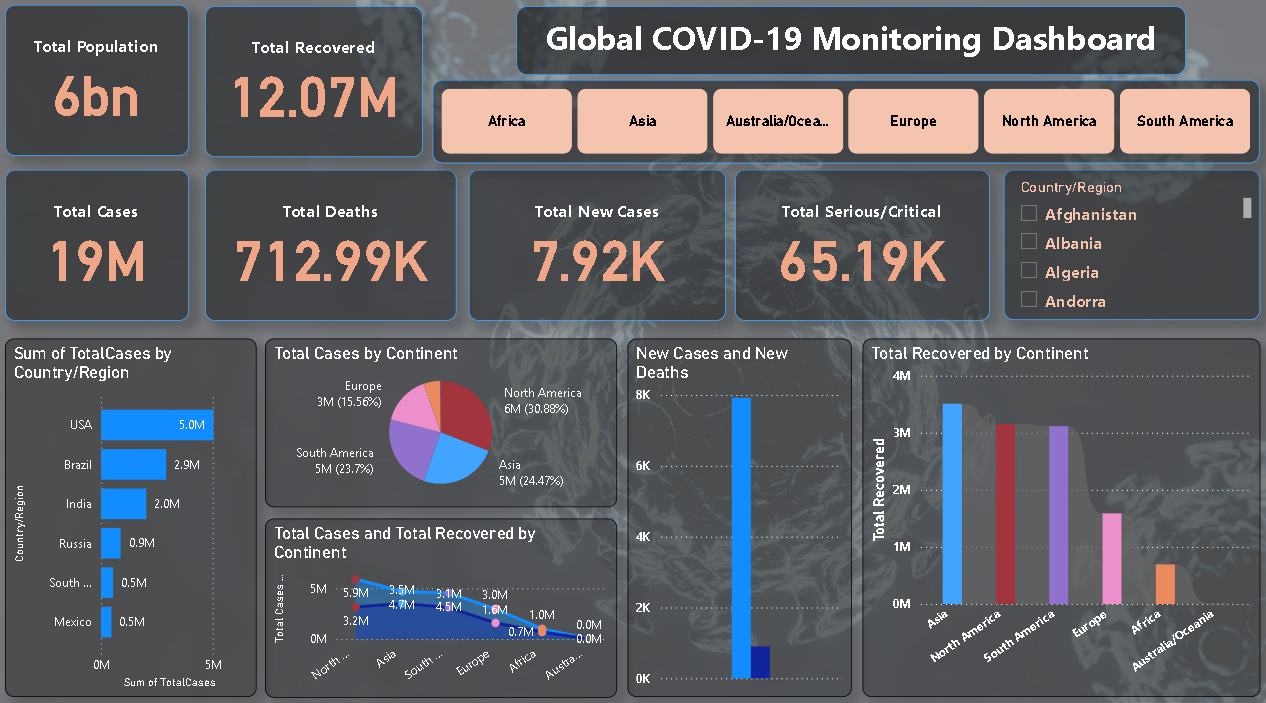

The dashboard page shown, as its layout file describes it:
{"tool":"powerbi","page":{"name":"Page 1","canvas":[1280,720],"ordinal":0},"visuals":[{"type":"cardVisual","fields":{"Data":["Sum(worldometer_data.TotalDeaths)"]},"box":[218.9,177.9,250,150.5],"z":0},{"type":"cardVisual","fields":{"Data":["Sum(worldometer_data.TotalCases)"]},"box":[19.9,177.9,182.9,150.5],"z":1000},{"type":"cardVisual","fields":{"Data":["Sum(worldometer_data.TotalRecovered)"]},"box":[218.9,14.9,216.4,150.5],"z":2000},{"type":"cardVisual","fields":{"Data":["Sum(worldometer_data.Population)"]},"box":[19.9,13.7,182.9,150.5],"z":3000},{"type":"textbox","box":[528.7,14.9,666.8,68.4],"z":4000},{"type":"cardVisual","fields":{"Data":["Sum(worldometer_data.NewCases)"]},"box":[481.4,177.9,256.3,150.5],"z":5000},{"type":"clusteredBarChart","fields":{"Category":["worldometer_data.Country/Region"],"Y":["Sum(worldometer_data.TotalCases)"]},"box":[19.9,345.8,250,357],"z":6000},{"type":"areaChart","fields":{"Category":["worldometer_data.Continent"],"Y":["Sum(worldometer_data.TotalCases)","Sum(worldometer_data.TotalRecovered)"]},"box":[278.2,524.4,350,178.2],"z":7000},{"type":"pieChart","title":"Total Cases by Continent","fields":{"Category":["worldometer_data.Continent"],"Y":["Sum(worldometer_data.TotalCases)"]},"box":[278.2,346.2,350,167.9],"z":8000},{"type":"lineClusteredColumnComboChart","fields":{"Y":["Sum(worldometer_data.NewCases)","Sum(worldometer_data.NewDeaths)"]},"box":[639.7,346.2,223.1,356.4],"z":9000},{"type":"slicer","fields":{"Values":["worldometer_data.Country/Region"]},"box":[1013.8,177.9,255,149.3],"z":10000},{"type":"cardVisual","fields":{"Data":["Sum(worldometer_data.Serious,Critical)"]},"box":[746.4,177.9,253.8,150.5],"z":11000},{"type":"ribbonChart","fields":{"Y":["Sum(worldometer_data.TotalRecovered)"],"Category":["worldometer_data.Continent"]},"box":[873.1,346.2,396.2,356.4],"z":12000},{"type":"advancedSlicerVisual","fields":{"Values":["worldometer_data.Continent"]},"box":[445.3,88.3,823.5,83.3],"z":13000}]}

Visuals, with their boxes in screenshot pixels (x1, y1, x2, y2), scaled from the page's 1280x720 canvas onto the 1266x703 screenshot:
cardVisual - Sum(worldometer_data.TotalDeaths): region(217, 174, 464, 321)
cardVisual - Sum(worldometer_data.TotalCases): region(20, 174, 201, 321)
cardVisual - Sum(worldometer_data.TotalRecovered): region(217, 15, 431, 161)
cardVisual - Sum(worldometer_data.Population): region(20, 13, 201, 160)
textbox: region(523, 15, 1182, 81)
cardVisual - Sum(worldometer_data.NewCases): region(476, 174, 730, 321)
clusteredBarChart - worldometer_data.Country/Region x Sum(worldometer_data.TotalCases): region(20, 338, 267, 686)
areaChart - worldometer_data.Continent x Sum(worldometer_data.TotalCases): region(275, 512, 621, 686)
"Total Cases by Continent" pieChart: region(275, 338, 621, 502)
lineClusteredColumnComboChart - Sum(worldometer_data.NewCases) x Sum(worldometer_data.NewDeaths): region(633, 338, 853, 686)
slicer - worldometer_data.Country/Region: region(1003, 174, 1255, 319)
cardVisual - Sum(worldometer_data.Serious,Critical): region(738, 174, 989, 321)
ribbonChart - Sum(worldometer_data.TotalRecovered) x worldometer_data.Continent: region(864, 338, 1255, 686)
advancedSlicerVisual - worldometer_data.Continent: region(440, 86, 1255, 168)
